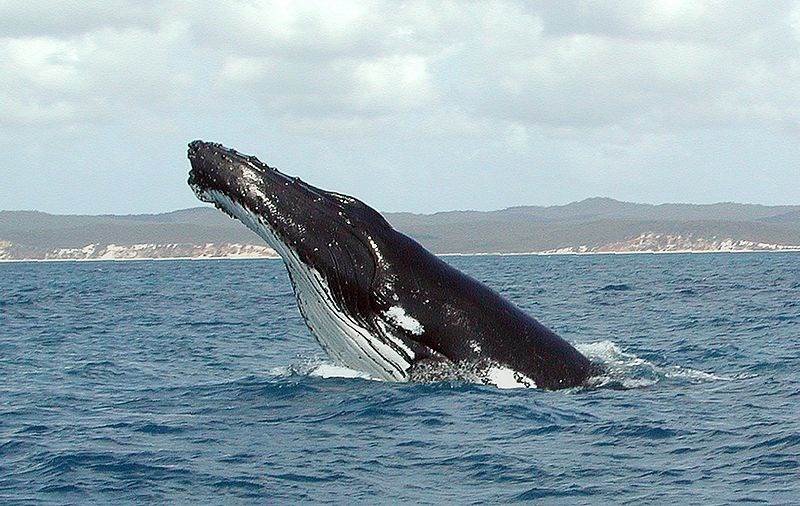humpback: (185, 139, 593, 386)
